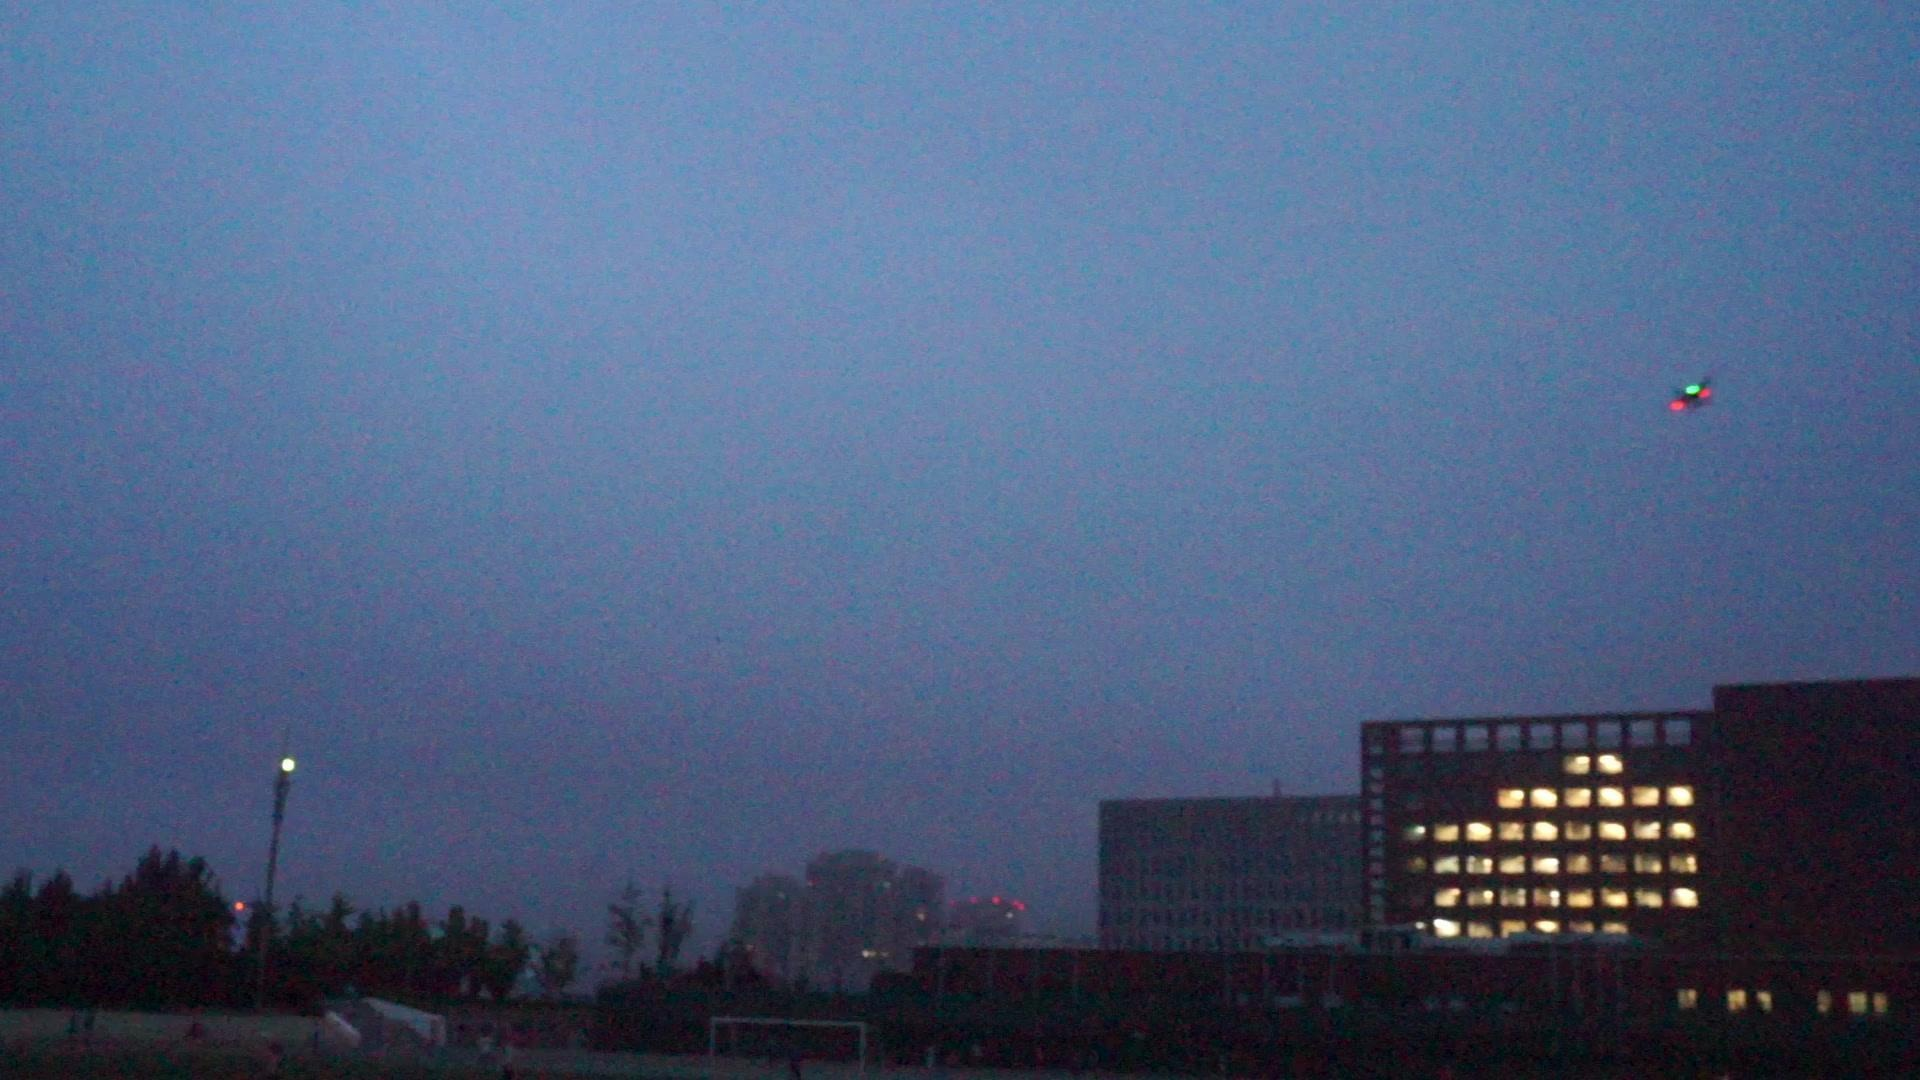UAV: (1669, 377, 1714, 411)
